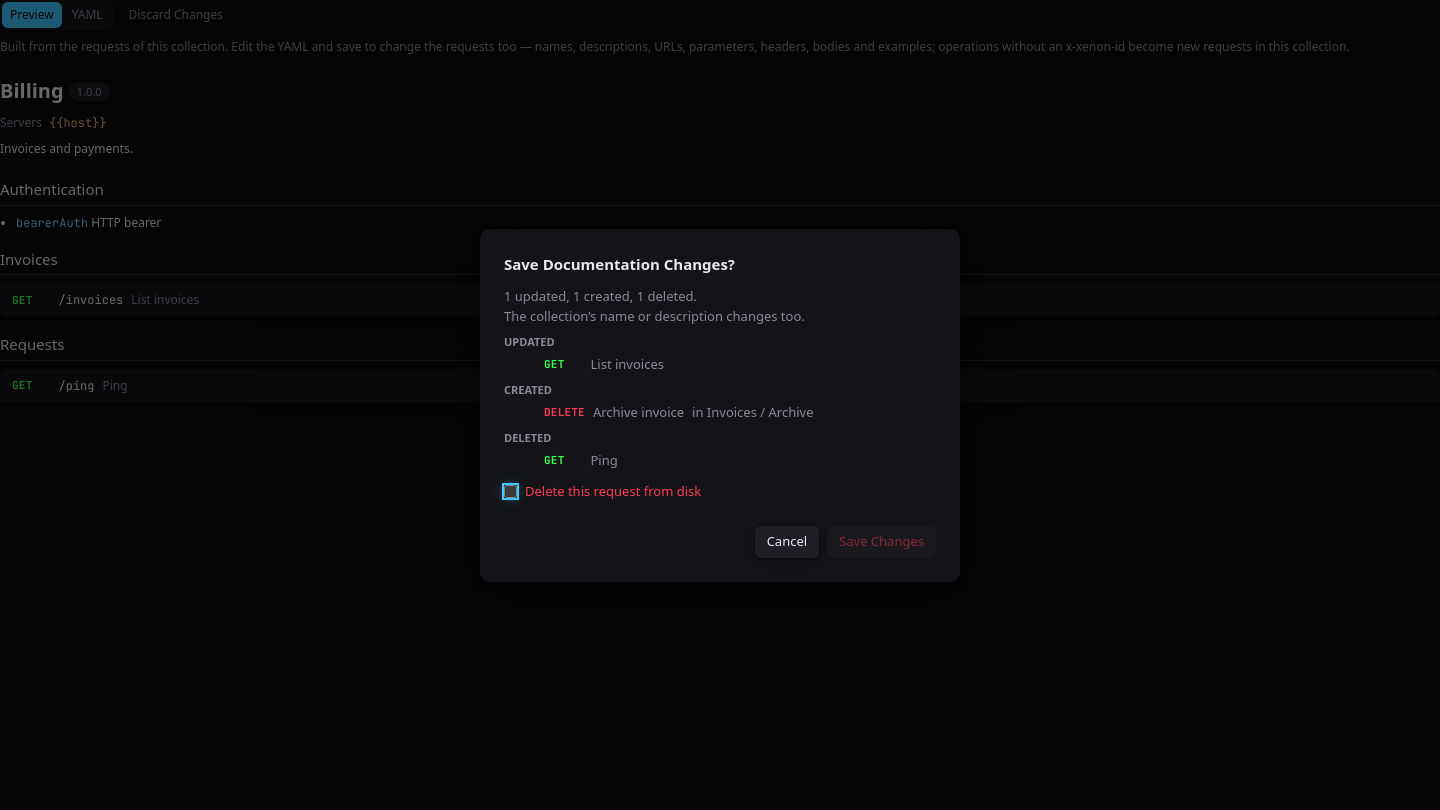
Test case: DocumentationPanel › lists what saving changes and needs the deletions ticked before writing them
Check: the element named "Billing API documentation" is shown, box [0,64,1439,414]
Check: the dialog "Save Documentation Changes?" shows "1 updated, 1 created, 1 deleted.", box [480,228,960,582]
Click the checkbox labelled "Delete this request from disk" at x=510, y=492, box [504,485,517,498]
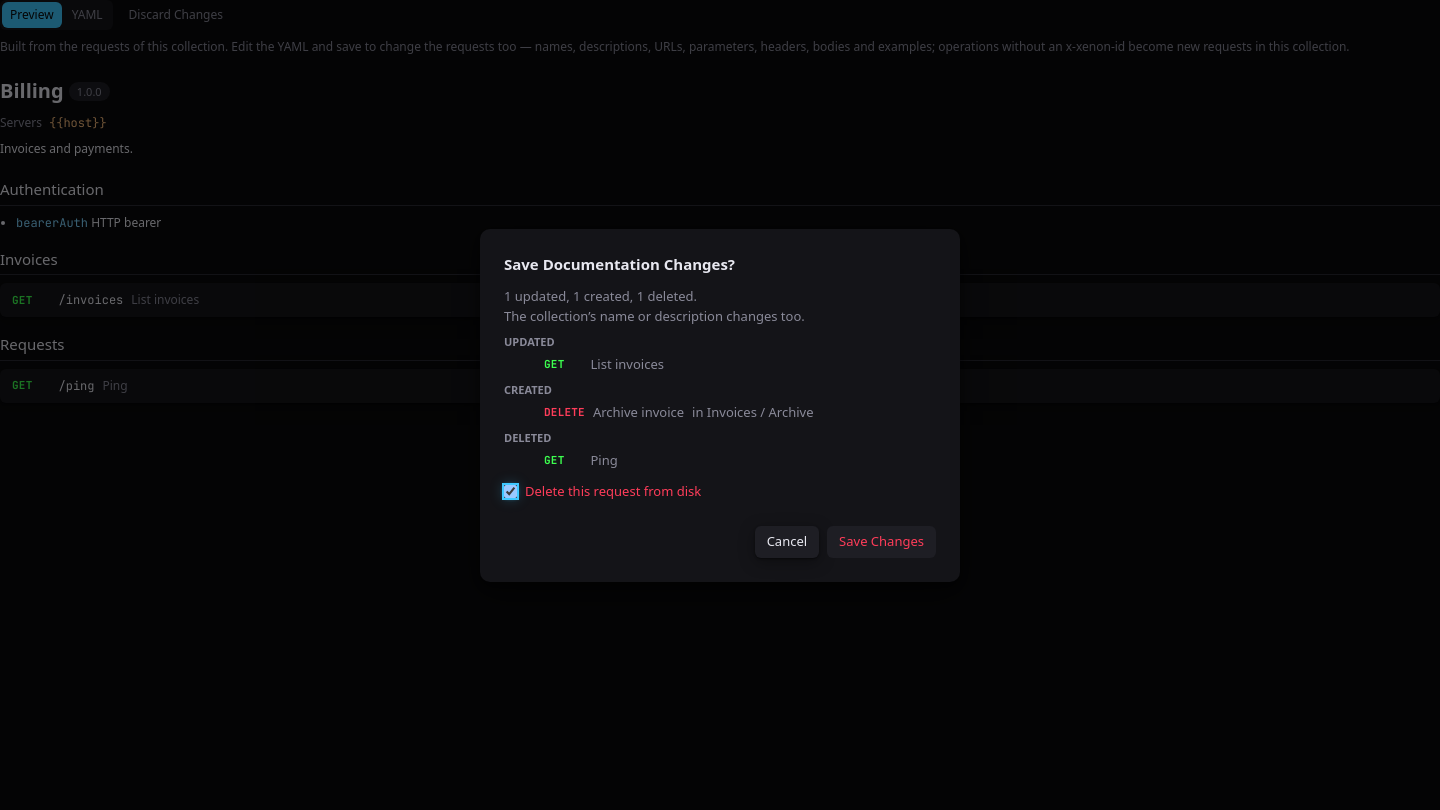
Click the button "Save Changes" at x=882, y=542, box [827,526,936,558]
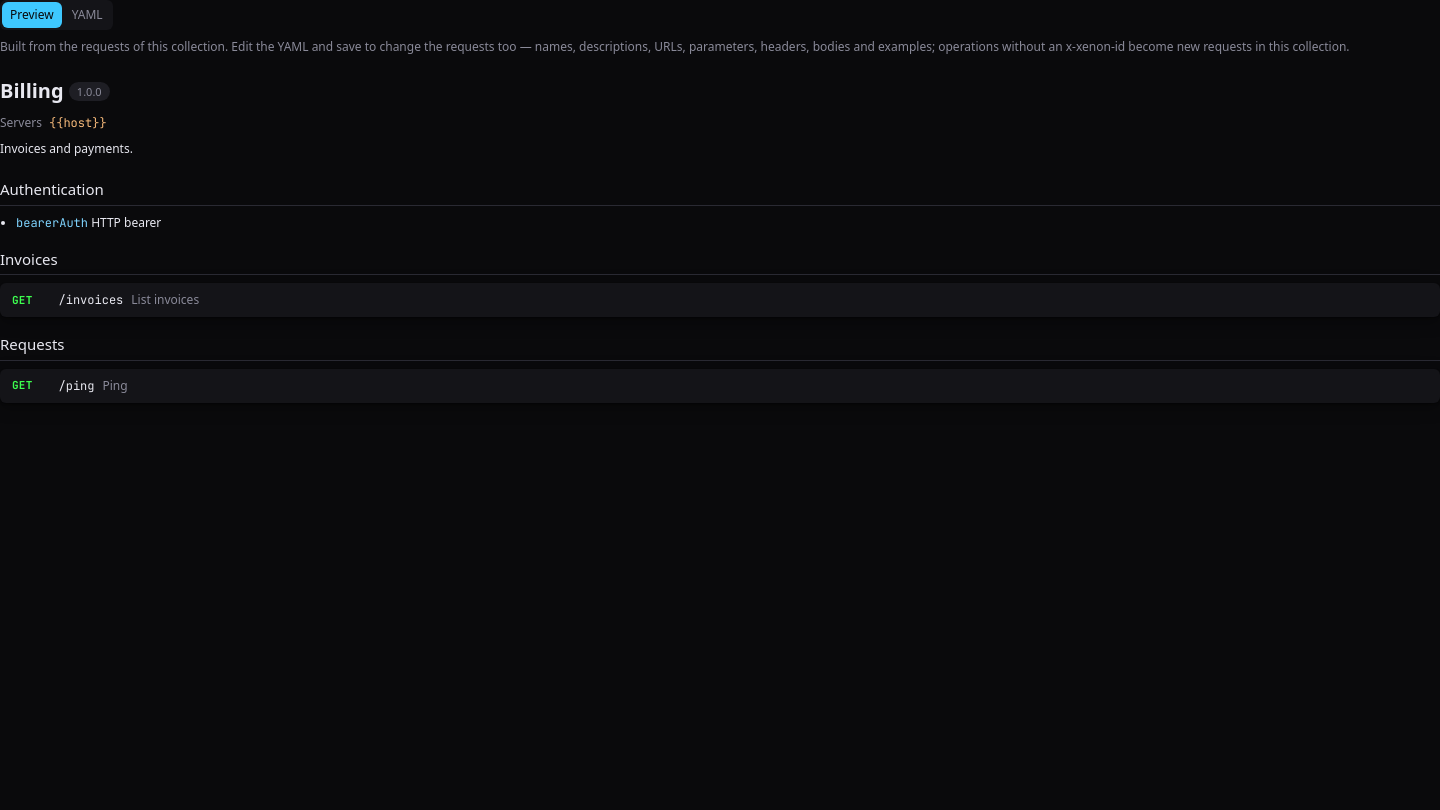
Check: the dialog is gone
